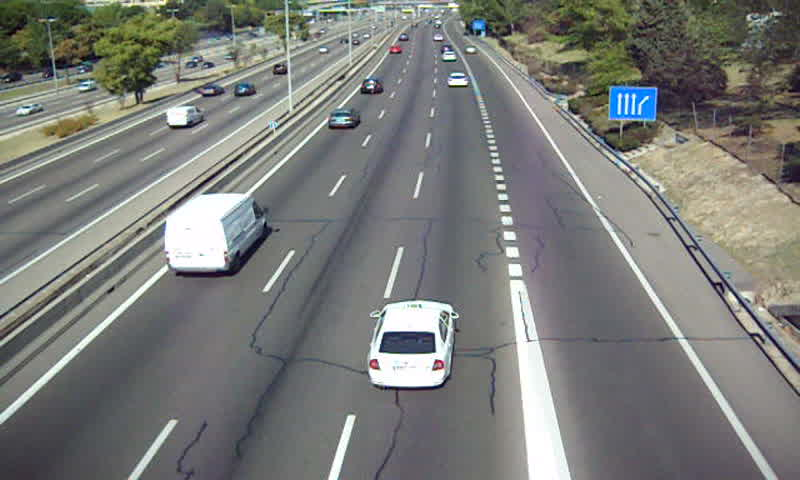car: (368, 301, 455, 388), (328, 109, 361, 129), (359, 78, 382, 96), (445, 72, 470, 88)
van: (164, 193, 265, 276)
